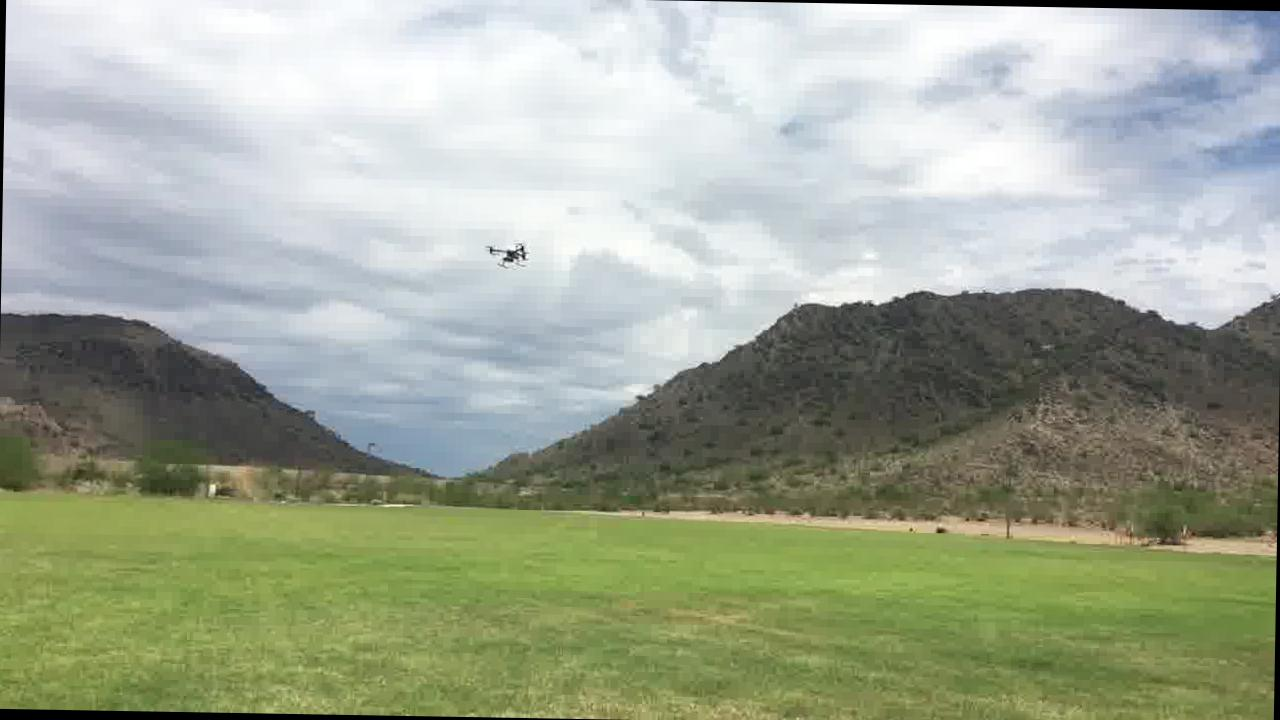drone: (482, 235, 528, 271)
